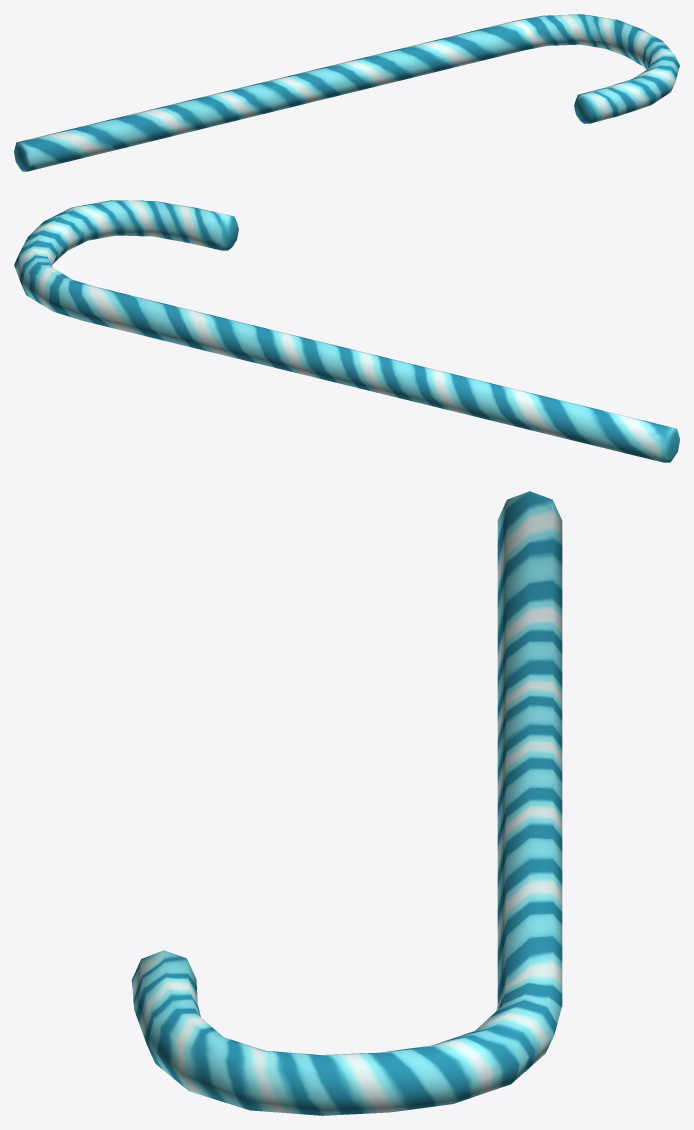
The model's file is CHP_MOD_Candy_cane_blue.fbx.
3 views of the same model, one above another, from view 1: azimuth 30°, elevation 25°; view 2: azimuth 150°, elevation 25°; view 3: azimuth 270°, elevation 25° (orthographic). The views are drawn at different scales.
Parts seen in each view (by area): view 1: CHP_MOD_Candy_cane_blue; view 2: CHP_MOD_Candy_cane_blue; view 3: CHP_MOD_Candy_cane_blue.
Part boxes in pixels (x1,y1,x2,y2): CHP_MOD_Candy_cane_blue: (14, 14, 679, 171); CHP_MOD_Candy_cane_blue: (14, 200, 679, 462); CHP_MOD_Candy_cane_blue: (131, 491, 562, 1115).
Bounding box in the file's own units: 1.18 × 0.0557 × 0.3706.
